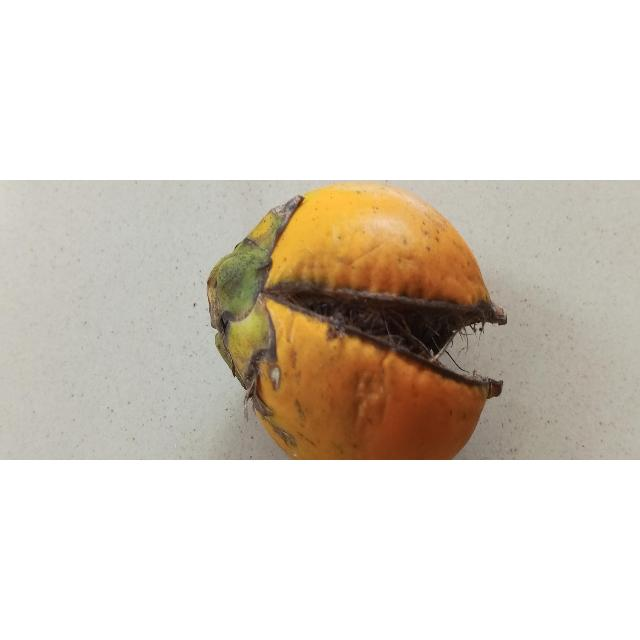damaged: (208, 183, 507, 461)
